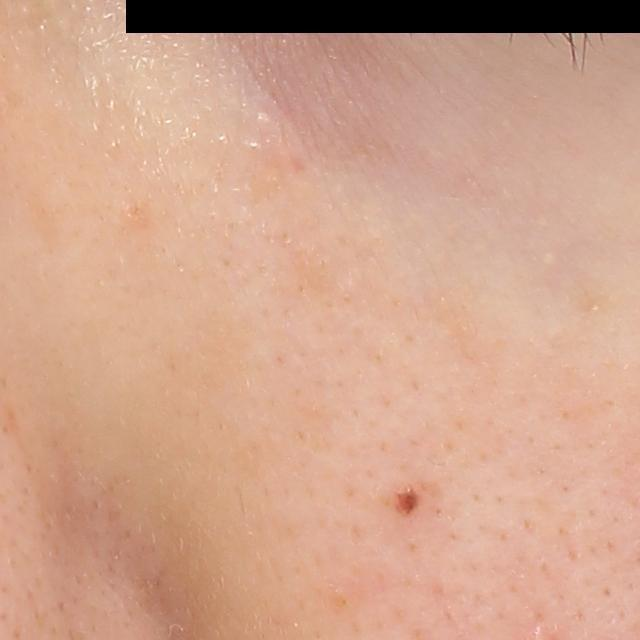nevus: (390, 474, 424, 515)
